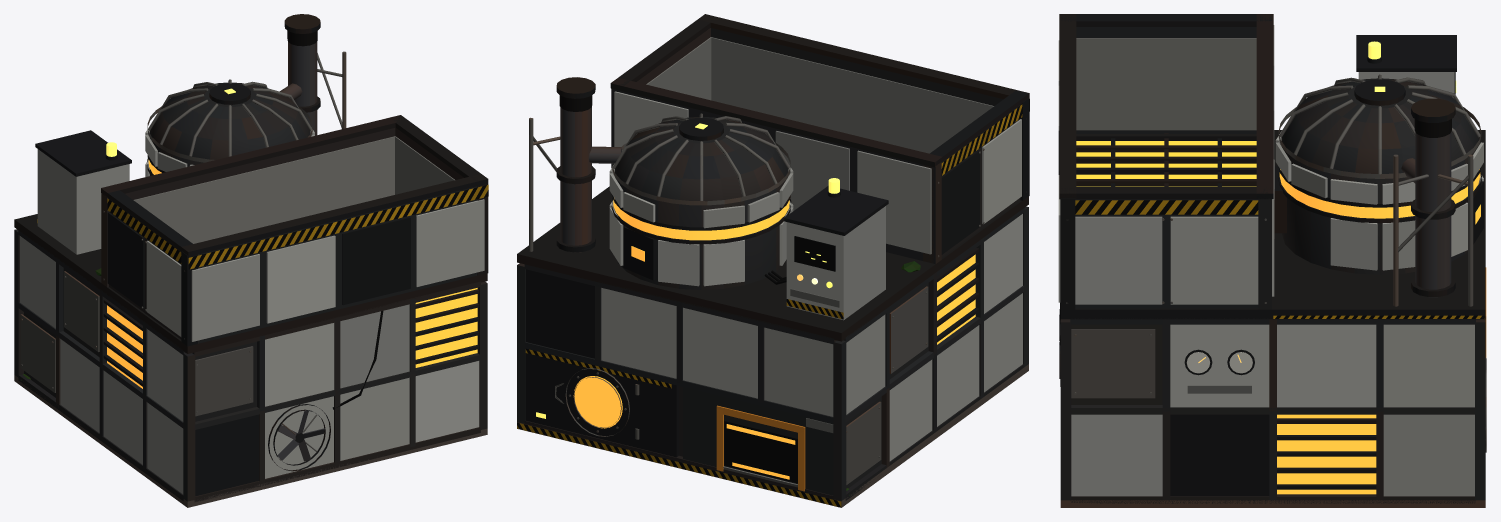
Rendered from smelter.glb.
3 views of the same model, side by side, from view 1: azimuth 30°, elevation 25°; view 2: azimuth 150°, elevation 25°; view 3: azimuth 270°, elevation 25° (orthographic). The views are drawn at different scales.
Parts seen in each view (by area): view 1: Body, Fan; view 2: Body; view 3: Body.
Part boxes in pixels (x1,y1,x2,y2): Body: [14, 14, 488, 507]; Fan: [277, 410, 325, 461]; Body: [517, 14, 1029, 507]; Body: [1058, 14, 1486, 507].
Bounding box in the file's own units: 3.99 × 3.93 × 4.01.
